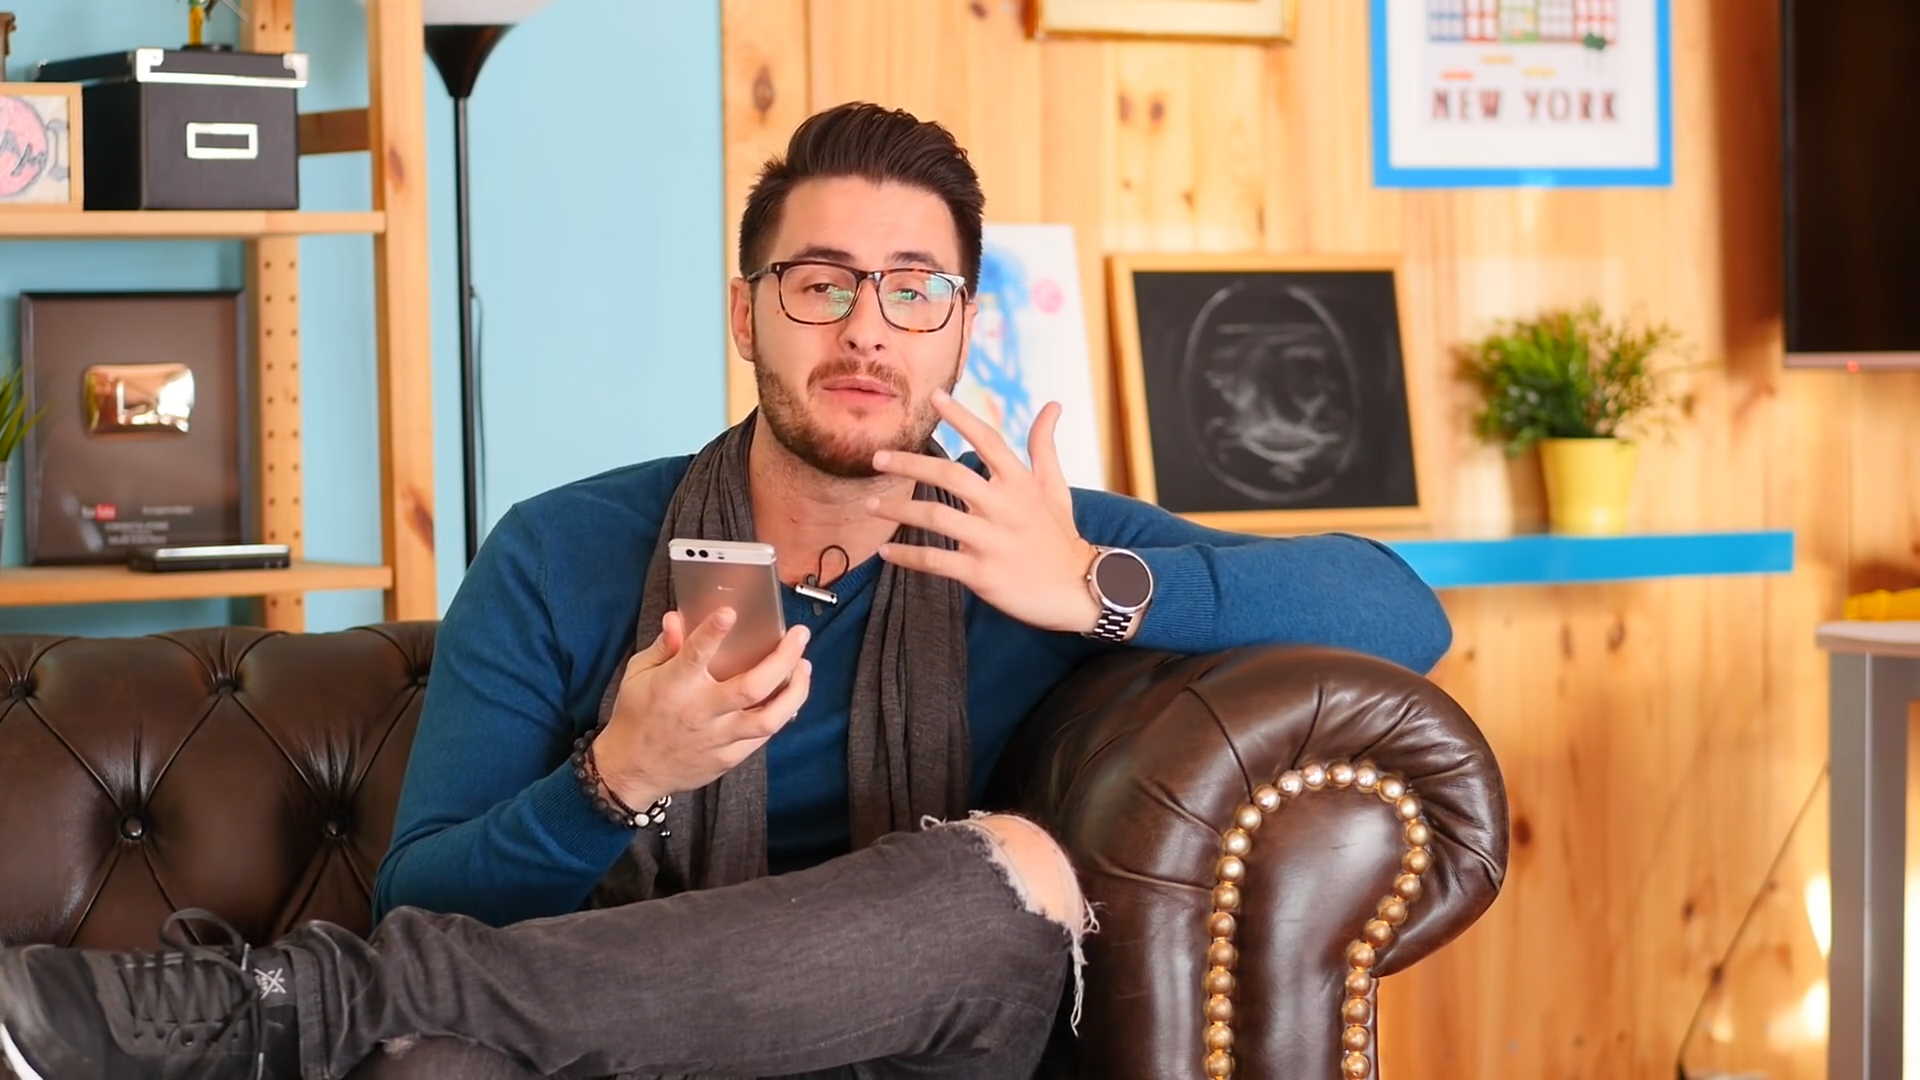smartphone: (669, 535, 800, 723)
